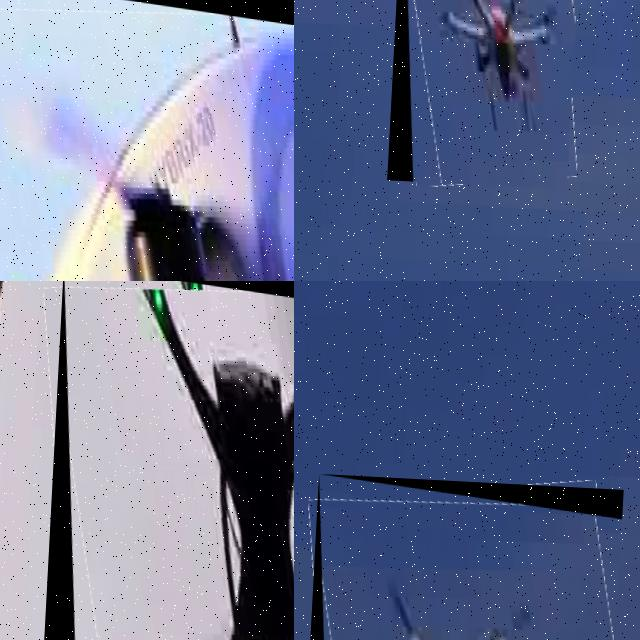drone: (30, 281, 294, 640), (0, 0, 294, 281), (302, 474, 623, 640), (387, 0, 583, 189)
